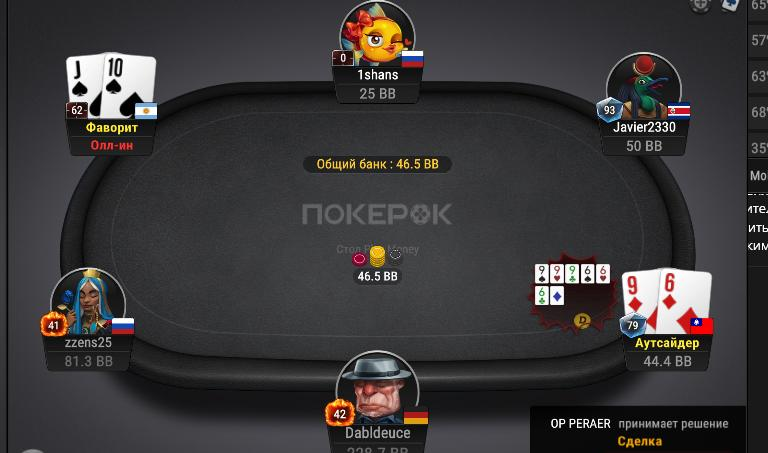10s: (102, 53, 157, 119)
6d: (659, 269, 713, 333)
9d: (622, 271, 660, 333)
Js: (66, 55, 105, 118)
